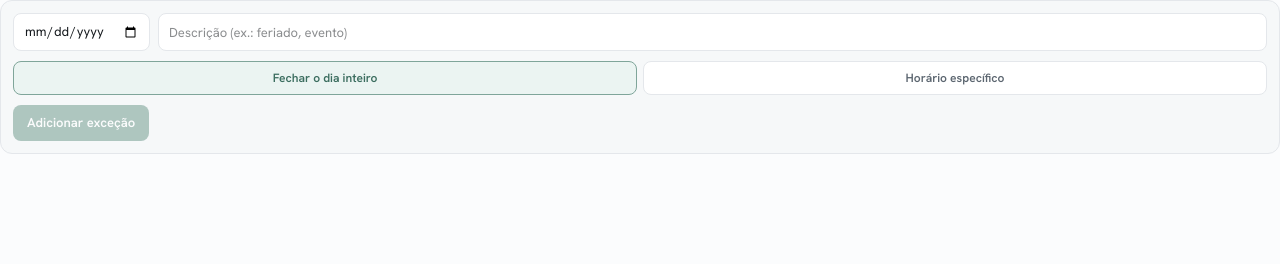
Test case: ExceptionForm › fechado não mostra o editor de períodos; horário mostra
The image size is (1280, 264).
Click the button "Horário específico": [955, 78] box [643,61,1267,95]
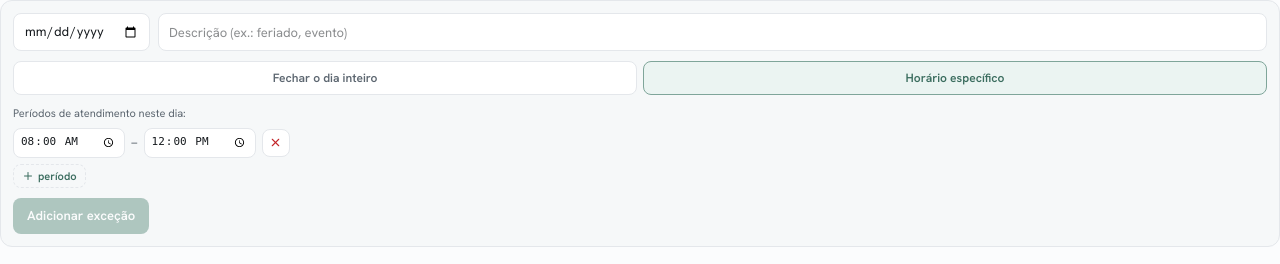
Result: the time field named "Início do período 1" is shown at [13,128,125,158]
